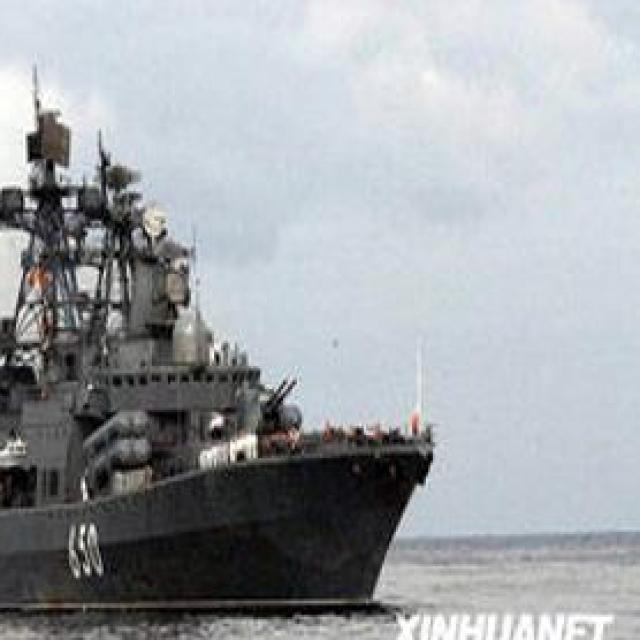navalvessels: (0, 53, 447, 599)
